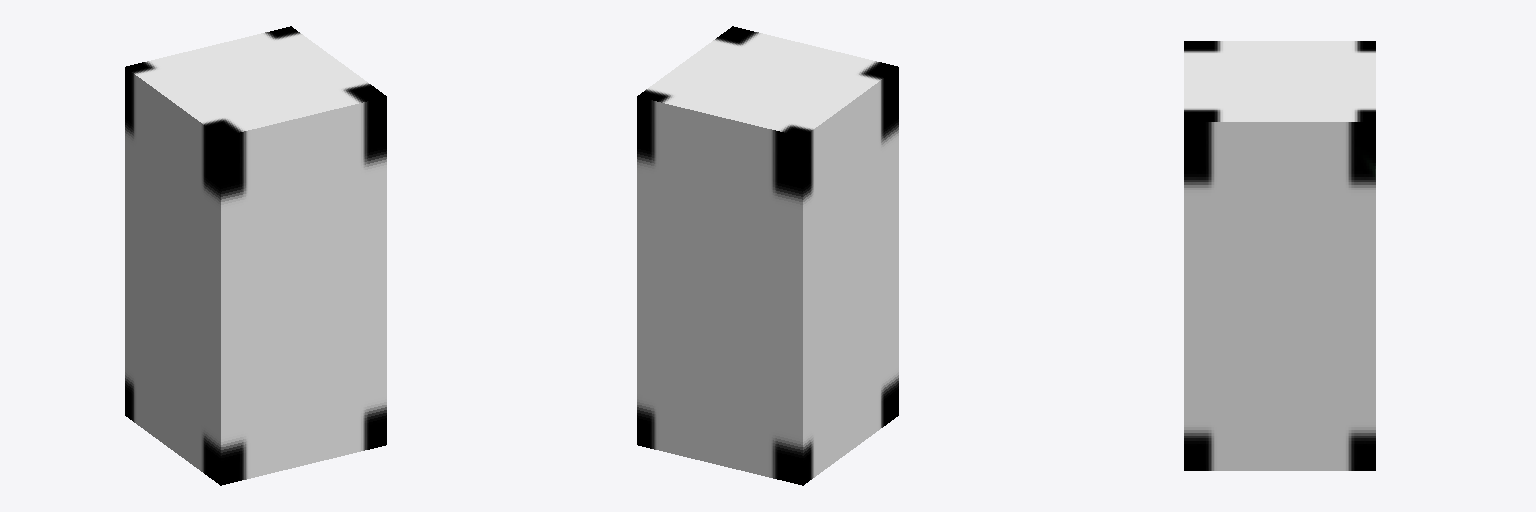
The picture shows the model from 3 angles: view 1: azimuth 30°, elevation 25°; view 2: azimuth 150°, elevation 25°; view 3: azimuth 270°, elevation 25°; orthographic projection.
Visible parts, largest first — view 1: Cube; view 2: Cube; view 3: Cube.
Part boxes in pixels (x1,y1,x2,y2): Cube: (125,26,386,485); Cube: (637,26,898,485); Cube: (1184,41,1375,470).
Size of the model in its own units: 2 by 4 by 2.
Materials: 1 (1 with a texture image).